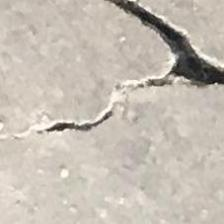Crack: (19, 0, 224, 139)
